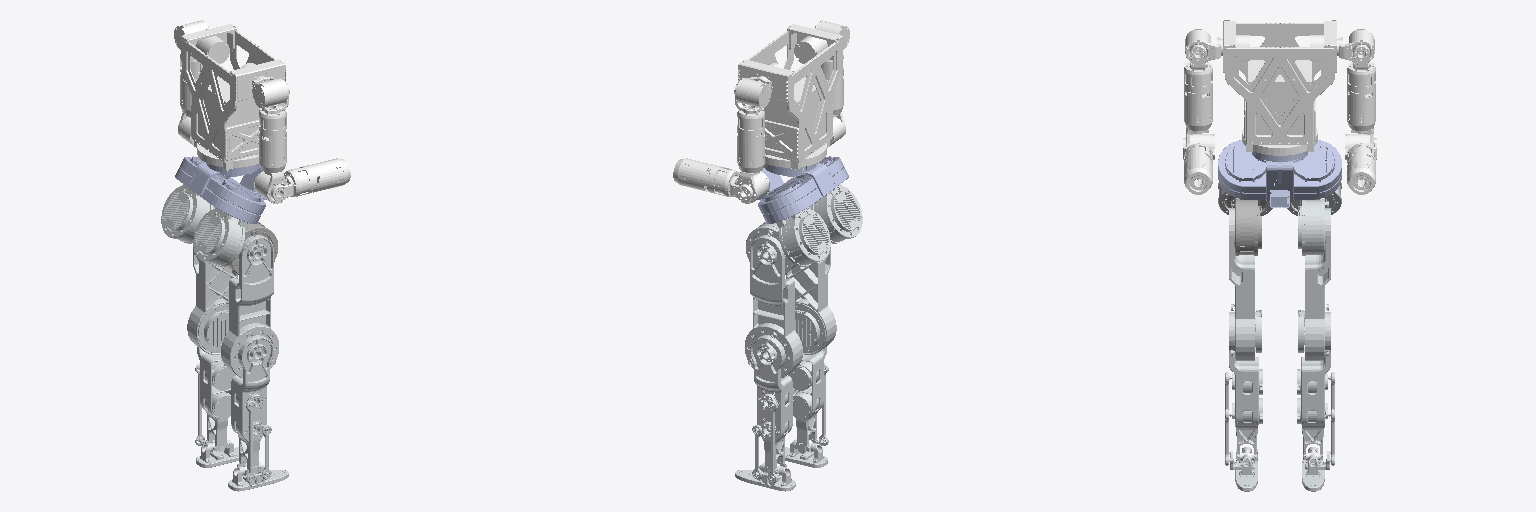
--- Facts derived from the render (not from the file) ---
3 views of the same robot in one strip: view 1: azimuth 30°, elevation 25°; view 2: azimuth 150°, elevation 25°; view 3: azimuth 270°, elevation 25° (orthographic).
Model atom01urdf with 24 links and 23 joints (23 revolute), rooted at base_link, posed every joint at zero.
Links seen in each view (by area): view 1: torso_link, right_thigh_pitch_link, right_knee_link, base_link, left_thigh_pitch_link, left_knee_link, right_thigh_yaw_link, right_arm_yaw_link, left_thigh_yaw_link, right_elbow_yaw_link, right_arm_pitch_link, left_arm_yaw_link (+3 smaller); view 2: torso_link, left_thigh_pitch_link, left_knee_link, base_link, right_thigh_pitch_link, right_knee_link, left_thigh_yaw_link, left_arm_yaw_link, right_thigh_yaw_link, left_elbow_yaw_link, left_arm_pitch_link, right_arm_yaw_link (+3 smaller); view 3: torso_link, base_link, right_knee_link, left_knee_link, left_thigh_pitch_link, right_thigh_pitch_link, left_arm_yaw_link, right_arm_yaw_link, left_thigh_roll_link, right_thigh_roll_link, left_elbow_yaw_link, right_elbow_yaw_link (+4 smaller).
Link boxes in pixels (x1=…): torso_link: x1=181, y1=24, x2=285, y2=169; right_thigh_pitch_link: x1=221, y1=235, x2=278, y2=377; right_knee_link: x1=231, y1=335, x2=273, y2=482; base_link: x1=175, y1=156, x2=266, y2=223; left_thigh_pitch_link: x1=187, y1=247, x2=237, y2=354; left_knee_link: x1=195, y1=347, x2=235, y2=450; right_thigh_yaw_link: x1=193, y1=207, x2=247, y2=266; right_arm_yaw_link: x1=254, y1=108, x2=287, y2=203; left_thigh_yaw_link: x1=161, y1=184, x2=212, y2=243; right_elbow_yaw_link: x1=284, y1=158, x2=350, y2=196; right_arm_pitch_link: x1=252, y1=76, x2=288, y2=107; left_arm_yaw_link: x1=178, y1=54, x2=202, y2=145; torso_link: x1=738, y1=24, x2=842, y2=169; left_thigh_pitch_link: x1=745, y1=235, x2=802, y2=377; left_knee_link: x1=750, y1=335, x2=792, y2=482; base_link: x1=757, y1=156, x2=848, y2=223; right_thigh_pitch_link: x1=786, y1=247, x2=836, y2=354; right_knee_link: x1=788, y1=347, x2=828, y2=453; left_thigh_yaw_link: x1=776, y1=207, x2=830, y2=266; left_arm_yaw_link: x1=736, y1=108, x2=769, y2=203; right_thigh_yaw_link: x1=811, y1=184, x2=862, y2=243; left_elbow_yaw_link: x1=673, y1=158, x2=739, y2=196; left_arm_pitch_link: x1=735, y1=76, x2=771, y2=107; right_arm_yaw_link: x1=821, y1=55, x2=845, y2=145; torso_link: x1=1223, y1=20, x2=1336, y2=155; base_link: x1=1218, y1=140, x2=1341, y2=207; right_knee_link: x1=1225, y1=312, x2=1262, y2=465; left_knee_link: x1=1297, y1=312, x2=1334, y2=465; left_thigh_pitch_link: x1=1298, y1=208, x2=1330, y2=360; right_thigh_pitch_link: x1=1229, y1=208, x2=1261, y2=360; left_arm_yaw_link: x1=1345, y1=62, x2=1375, y2=159; right_arm_yaw_link: x1=1184, y1=62, x2=1214, y2=159; left_thigh_roll_link: x1=1294, y1=195, x2=1332, y2=255; right_thigh_roll_link: x1=1227, y1=195, x2=1265, y2=255; left_elbow_yaw_link: x1=1347, y1=143, x2=1375, y2=194; right_elbow_yaw_link: x1=1184, y1=143, x2=1212, y2=194.
Bounding box of the posed robot: 0.3188 × 0.4235 × 1.06 m (x, y, z).
Meshes: 24 distinct files referenced, 24 mesh visuals loaded (24 binary STL).

robot.urdf — atom01urdf:
<?xml version="1.0" encoding="utf-8"?>
<robot
  name="atom01urdf">
  <link
    name="base_link">
    <inertial>
      <origin
        xyz="-0.077749 -0.00027844 0.03283"
        rpy="0 0 0" />
      <mass
        value="5.18128957" />
      <inertia
        ixx="0.03443949"
        ixy="-0.00009982"
        ixz="0.01422409"
        iyy="0.05207392"
        iyz="0.00006596"
        izz="0.05655402" />
    </inertial>
    <visual>
      <origin
        xyz="0 0 0"
        rpy="0 0 0" />
      <geometry>
        <mesh
          filename="../meshes/base_link.STL" />
      </geometry>
      <material
        name="">
        <color
          rgba="0.79216 0.81961 0.93333 1" />
      </material>
    </visual>
    <collision>
      <origin
        xyz="-0.05 0 0.05"
        rpy="0 0 0" />
      <geometry>
        <box name="baselink" size="0.16 0.16 0.12"/>
      </geometry>
    </collision>
  </link>
  <link
    name="left_thigh_yaw_link">
    <inertial>
      <origin
        xyz="-0.0316748666497344 -8.77228606818127E-05 -0.0526260620141965"
        rpy="0 0 0" />
      <mass
        value="1.65548536" />
      <inertia
        ixx="0.00708216"
        ixy="-0.00000742"
        ixz="-0.00374417"
        iyy="0.00881274"
        iyz="-0.00001272"
        izz="0.00319900" />
    </inertial>
    <visual>
      <origin
        xyz="0 0 0"
        rpy="0 0 0" />
      <geometry>
        <mesh
          filename="../meshes/left_thigh_yaw_link.STL" />
      </geometry>
      <material
        name="">
        <color
          rgba="0.898039215686275 0.917647058823529 0.929411764705882 1" />
      </material>
    </visual>
    <!-- <collision>
      <origin
        xyz="0 0 0"
        rpy="0 0 0" />
      <geometry>
        <mesh
          filename="../meshes/left_thigh_yaw_link.STL" />
      </geometry>
    </collision> -->
  </link>
  <joint
    name="left_thigh_yaw_joint"
    type="revolute">
    <origin
      xyz="-0.10111 0.072188 -0.0014904"
      rpy="0 0 0" />
    <parent
      link="base_link" />
    <child
      link="left_thigh_yaw_link" />
    <axis
      xyz="-0.5 0 -0.86603" />    
    <limit
      lower="-1"
      upper="0.2"
      effort="80"
      velocity="10.47" />
  </joint>
  <link
    name="left_thigh_roll_link">
    <inertial>
      <origin
        xyz="0.0479499049261024 -0.000836880055032348 -0.0274491021327244"
        rpy="0 0 0" />
      <mass
        value="1.66242030" />
      <inertia
        ixx="0.00258627"
        ixy="0.00014599"
        ixz="0.00287042"
        iyy="0.00812419"
        iyz="-0.00008702"
        izz="0.00593575" />
    </inertial>
    <visual>
      <origin
        xyz="0 0 0"
        rpy="0 0 0" />
      <geometry>
        <mesh
          filename="../meshes/left_thigh_roll_link.STL" />
      </geometry>
      <material
        name="">
        <color
          rgba="0.898039215686275 0.917647058823529 0.929411764705882 1" />
      </material>
    </visual>
    <!-- <collision>
      <origin
        xyz="0 0 0"
        rpy="0 0 0" />
      <geometry>
        <mesh
          filename="../meshes/left_thigh_roll_link.STL" />
      </geometry>
    </collision> -->
  </link>
  <joint
    name="left_thigh_roll_joint"
    type="revolute">
    <origin
      xyz="-0.014479 0 -0.074779"
      rpy="0 0 0" />
    <parent
      link="left_thigh_yaw_link" />
    <child
      link="left_thigh_roll_link" />
    <axis
      xyz="0.86603 0 -0.5" />
    <limit
      lower="-0.2"
      upper="2"
      effort="80"
      velocity="10.47" />
  </joint>
  <link
    name="left_thigh_pitch_link">
    <inertial>
      <origin
        xyz="0.000110018242793011 -0.0158590957763449 -0.164929951636754"
        rpy="0 0 0" />
      <mass
        value="2.40451173" />
      <inertia
        ixx="0.11318926"
        ixy="0.00000454"
        ixz="-0.00007916"
        iyy="0.11318768"
        iyz="-0.01129654"
        izz="0.00284795" />
    </inertial>
    <visual>
      <origin
        xyz="0 0 0"
        rpy="0 0 0" />
      <geometry>
        <mesh
          filename="../meshes/left_thigh_pitch_link.STL" />
      </geometry>
      <material
        name="">
        <color
          rgba="0.898039215686275 0.917647058823529 0.929411764705882 1" />
      </material>
    </visual>
    <collision>
      <origin
        xyz="0.0 0 -0.08"
        rpy="0 0 0" />
      <geometry>
        <box name="left_thigh_pitch_link" size="0.08 0.1 0.22"/>
      </geometry>
    </collision>
  </link>
  <joint
    name="left_thigh_pitch_joint"
    type="revolute">
    <origin
      xyz="0.057159 0.02485 -0.032997"
      rpy="0 0 0" />
    <parent
      link="left_thigh_roll_link" />
    <child
      link="left_thigh_pitch_link" />
    <axis
      xyz="0 1 0" />
    <limit
      lower="-2.5"
      upper="0.8"
      effort="80"
      velocity="10.47" />
  </joint>
  <link
    name="left_knee_link">
    <inertial>
      <origin
        xyz="-7.43790684068768E-05 -0.0152236420584554 -0.131157724786166"
        rpy="0 0 0" />
      <mass
        value=" 1.57203189" />
      <inertia
        ixx="0.03983976"
        ixy="0.00000133"
        ixz="-0.00000406"
        iyy="0.03909295"
        iyz="-0.00525180"
        izz="0.00152117" />
    </inertial>
    <visual>
      <origin
        xyz="0 0 0"
        rpy="0 0 0" />
      <geometry>
        <mesh
          filename="../meshes/left_knee_link.STL" />
      </geometry>
      <material
        name="">
        <color
          rgba="0.898039215686275 0.917647058823529 0.929411764705882 1" />
      </material>
    </visual>
    <collision>
      <origin
        xyz="0.0 0 -0.15"
        rpy="0 0 0" />
      <geometry>
        <box name="left_knee_link" size="0.08 0.08 0.22"/>
      </geometry>
    </collision>
  </link>
  <joint
    name="left_knee_joint"
    type="revolute">
    <origin
      xyz="0 3.0016E-05 -0.25"
      rpy="0 0 0" />
    <parent
      link="left_thigh_pitch_link" />
    <child
      link="left_knee_link" />
    <axis
      xyz="0 1 0" />
    <limit
      lower="0"
      upper="2.5"
      effort="80"
      velocity="10.47" />
  </joint>
  <link
    name="left_ankle_pitch_link">
    <inertial>
      <origin
        xyz="-1.59966508372911E-08 -1.59944334617837E-08 -1.92057481029906E-12"
        rpy="0 0 0" />
      <mass
        value="0.08430000" />
      <inertia
        ixx="0.00000866"
        ixy="0.00000000"
        ixz="0.00000000"
        iyy="0.00000866"
        iyz="0.00000000"
        izz="0.00001453" />
    </inertial>
    <visual>
      <origin
        xyz="0 0 0"
        rpy="0 0 0" />
      <geometry>
        <mesh
          filename="../meshes/left_ankle_pitch_link.STL" />
      </geometry>
      <material
        name="">
        <color
          rgba="1 1 1 1" />
      </material>
    </visual>
    <!-- <collision>
      <origin
        xyz="0 0 0"
        rpy="0 0 0" />
      <geometry>
        <mesh
          filename="../meshes/left_ankle_pitch_link.STL" />
      </geometry>
    </collision> -->
  </link>
  <joint
    name="left_ankle_pitch_joint"
    type="revolute">
    <origin
      xyz="0 -0.024814 -0.3"
      rpy="0 0 0" />
    <parent
      link="left_knee_link" />
    <child
      link="left_ankle_pitch_link" />
    <axis
      xyz="0 1 0" />
    <limit
      lower="-0.6"
      upper="0.6"
      effort="18"
      velocity="3.7692" />
  </joint>
  <link
    name="left_ankle_roll_link">
    <inertial>
      <origin
        xyz="0.0128338410984807 0.00356888095683068 -0.0247187184132931"
        rpy="0 0 0" />
      <mass
        value="0.25150733" />
      <inertia
        ixx="0.00029037"
        ixy="0.00000000"
        ixz="0.00012475"
        iyy="0.00066331"
        iyz="0.00000932"
        izz="0.00052367" />
    </inertial>
    <visual>
      <origin
        xyz="0 0 0"
        rpy="0 0 0" />
      <geometry>
        <mesh
          filename="../meshes/left_ankle_roll_link.STL" />
      </geometry>
      <material
        name="">
        <color
          rgba="0.898039215686275 0.917647058823529 0.929411764705882 1" />
      </material>
    </visual>
    <collision>
      <origin
        xyz="0 0 0"
        rpy="0 0 0" />
      <geometry>
        <mesh
          filename="../meshes/left_ankle_roll_link.STL" />
      </geometry>
    </collision>
  </link>
  <joint
    name="left_ankle_roll_joint"
    type="revolute">
    <origin
      xyz="0 0 0"
      rpy="0 0 0" />
    <parent
      link="left_ankle_pitch_link" />
    <child
      link="left_ankle_roll_link" />
    <axis
      xyz="1 0 0" />
    <limit
      lower="-0.5"
      upper="0.5"
      effort="18"
      velocity="3.7692" />
  </joint>
   <link
    name="right_thigh_yaw_link">
    <inertial>
      <origin
        xyz="-0.028675 -8.7723E-05 -0.04743"
        rpy="0 0 0" />
      <mass
        value="1.65548536" />
      <inertia
        ixx="0.00613853"
        ixy="-0.00000683"
        ixz="-0.00318352"
        iyy="0.00753626"
        iyz="-0.00001170"
        izz="0.00286615" />
    </inertial>
    <visual>
      <origin
        xyz="0 0 0"
        rpy="0 0 0" />
      <geometry>
        <mesh
          filename="../meshes/right_thigh_yaw_link.STL" />
      </geometry>
      <material
        name="">
        <color
          rgba="0.89804 0.91765 0.92941 1" />
      </material>
    </visual>
    <!-- <collision>
      <origin
        xyz="0 0 0"
        rpy="0 0 0" />
      <geometry>
        <mesh
          filename="../meshes/right_thigh_yaw_link.STL" />
      </geometry>
    </collision> -->
  </link>
  <joint
    name="right_thigh_yaw_joint"
    type="revolute">
    <origin
      xyz="-0.10411 -0.072812 -0.0066865"
      rpy="0 0 0" />
    <parent
      link="base_link" />
    <child
      link="right_thigh_yaw_link" />
    <axis
      xyz="-0.5 0 -0.86603" />
    <limit
      lower="-0.2"
      upper="1"
      effort="80"
      velocity="10.47" />
  </joint>
  <link
    name="right_thigh_roll_link">
    <inertial>
      <origin
        xyz="0.0477693837411464 0.000836963027846305 -0.0274166758684142"
        rpy="0 0 0" />
      <mass
        value=" 1.66242030" />
      <inertia
        ixx="0.00258034"
        ixy="-0.00014577"
        ixz="0.00285196"
        iyy="0.00807516"
        iyz="0.00008710"
        izz="0.00589265" />
    </inertial>
    <visual>
      <origin
        xyz="0 0 0"
        rpy="0 0 0" />
      <geometry>
        <mesh
          filename="../meshes/right_thigh_roll_link.STL" />
      </geometry>
      <material
        name="">
        <color
          rgba="0.752941176470588 0.752941176470588 0.752941176470588 1" />
      </material>
    </visual>
    <!-- <collision>
      <origin
        xyz="0.05 0 -0.1"
        rpy="0 0 0" />
      <geometry>
        <box name="baselink" size="0.08 0.1 0.22"/>
      </geometry>
    </collision> -->
  </link>
  <joint
    name="right_thigh_roll_joint"
    type="revolute">
    <origin
      xyz="-0.011479 0 -0.069583"
      rpy="0 0 0" />
    <parent
      link="right_thigh_yaw_link" />
    <child
      link="right_thigh_roll_link" />
    <axis
      xyz="0.86603 0 -0.5" />
    <limit
      lower="-2"
      upper="0.2"
      effort="80"
      velocity="10.47" />
  </joint>
  <link
    name="right_thigh_pitch_link">
    <inertial>
      <origin
        xyz="1.72079145086892E-05 0.0158997269549062 -0.164935707262188"
        rpy="0 0 0" />
      <mass
        value="2.40451173" />
      <inertia
        ixx="0.11318926"
        ixy="0.00000531"
        ixz="-0.00001822"
        iyy="0.11318225"
        iyz="0.01132303"
        izz="0.00285338" />
    </inertial>
    <visual>
      <origin
        xyz="0 0 0"
        rpy="0 0 0" />
      <geometry>
        <mesh
          filename="../meshes/right_thigh_pitch_link.STL" />
      </geometry>
      <material
        name="">
        <color
          rgba="0.898039215686275 0.917647058823529 0.929411764705882 1" />
      </material>
    </visual>
    <collision>
      <origin
        xyz="0.0 0 -0.08"
        rpy="0 0 0" />
      <geometry>
        <box name="left_thigh_pitch_link" size="0.08 0.1 0.22"/>
      </geometry>
    </collision>
    
  </link>
  <joint
    name="right_thigh_pitch_joint"
    type="revolute">
    <origin
      xyz="0.057156 -0.02485 -0.033003"
      rpy="0 0 0" />
    <parent
      link="right_thigh_roll_link" />
    <child
      link="right_thigh_pitch_link" />
    <axis
      xyz="0 1 0" />
    <limit
      lower="-2.5"
      upper="0.8"
      effort="80"
      velocity="10.47" />
  </joint>
  <link
    name="right_knee_link">
    <inertial>
      <origin
        xyz="-7.00545068475222E-05 0.0151869457728163 -0.130863053353739"
        rpy="0 0 0" />
      <mass
        value="1.57203189" />
      <inertia
        ixx="0.03881145"
        ixy="-0.00000144"
        ixz="-0.00000329"
        iyy="0.03807343"
        iyz="0.00517669"
        izz="0.00151115" />
    </inertial>
    <visual>
      <origin
        xyz="0 0 0"
        rpy="0 0 0" />
      <geometry>
        <mesh
          filename="../meshes/right_knee_link.STL" />
      </geometry>
      <material
        name="">
        <color
          rgba="0.898039215686275 0.917647058823529 0.929411764705882 1" />
      </material>
    </visual>
    <!-- <collision>
      <origin
        xyz="0 0 0"
        rpy="1.57 0 0" />
      <geometry>
        <cylinder name="left_knee_link" length="0.1" radius="0.045"/>
      </geometry>
    </collision> -->
    <collision>
      <origin
        xyz="0.0 0 -0.15"
        rpy="0 0 0" />
      <geometry>
        <box name="left_knee_link" size="0.08 0.08 0.22"/>
      </geometry>
    </collision>
  </link>
  <joint
    name="right_knee_joint"
    type="revolute">
    <origin
      xyz="0 3.0016E-05 -0.25"
      rpy="0 0 0" />
    <parent
      link="right_thigh_pitch_link" />
    <child
      link="right_knee_link" />
    <axis
      xyz="0 1 0" />
    <limit
      lower="0"
      upper="2.5"
      effort="80"
      velocity="10.47" />
  </joint>
  <link
    name="right_ankle_pitch_link">
    <inertial>
      <origin
        xyz="-1.59966505597353E-08 -1.59944334721107E-08 -1.9204637879966E-12"
        rpy="0 0 0" />
      <mass
        value="0.08430000" />
      <inertia
        ixx="0.00000866"
        ixy="0.00000000"
        ixz="0.00000000"
        iyy="0.00000866"
        iyz="0.00000000"
        izz="0.00001453" />
    </inertial>
    <visual>
      <origin
        xyz="0 0 0"
        rpy="0 0 0" />
      <geometry>
        <mesh
          filename="../meshes/right_ankle_pitch_link.STL" />
      </geometry>
      <material
        name="">
        <color
          rgba="1 1 1 1" />
      </material>
    </visual>
    <!-- <collision>
      <origin
        xyz="0 0 0"
        rpy="0 0 0" />
      <geometry>
        <mesh
          filename="../meshes/right_ankle_pitch_link.STL" />
      </geometry>
    </collision> -->
  </link>
  <joint
    name="right_ankle_pitch_joint"
    type="revolute">
    <origin
      xyz="0 0.024886 -0.3"
      rpy="0 0 0" />
    <parent
      link="right_knee_link" />
    <child
      link="right_ankle_pitch_link" />
    <axis
      xyz="0 1 0" />
    <limit
      lower="-0.6"
      upper="0.6"
      effort="18"
      velocity="3.7692" />
  </joint>
  <link
    name="right_ankle_roll_link">
    <inertial>
      <origin
        xyz="0.0128333434205583 -0.00356507681987825 -0.0247195774991914"
        rpy="0 0 0" />
      <mass
        value="0.25150733" />
      <inertia
        ixx="0.00029037"
        ixy="0.00000000"
        ixz="0.00012475"
        iyy="0.00066331"
        iyz="-0.00000929"
        izz="0.00052366" />
    </inertial>
    <visual>
      <origin
        xyz="0 0 0"
        rpy="0 0 0" />
      <geometry>
        <mesh
          filename="../meshes/right_ankle_roll_link.STL" />
      </geometry>
      <material
        name="">
        <color
          rgba="0.898039215686275 0.917647058823529 0.929411764705882 1" />
      </material>
    </visual>
    <collision>
      <origin
        xyz="0 0 0"
        rpy="0 0 0" />
      <geometry>
        <mesh
          filename="../meshes/right_ankle_roll_link.STL" />
      </geometry>
    </collision>
  </link>
  <joint
    name="right_ankle_roll_joint"
    type="revolute">
    <origin
      xyz="0 0 0"
      rpy="0 0 0" />
    <parent
      link="right_ankle_pitch_link" />
    <child
      link="right_ankle_roll_link" />
    <axis
      xyz="1 0 0" />
    <limit
      lower="-0.5"
      upper="0.5"
      effort="18"
      velocity="3.7692" />
  </joint>
  <link
    name="torso_link">
    <inertial>
      <origin
        xyz="0 0 0"
        rpy="0 0 0" />
      <mass
        value="6.57129050" />
      <inertia
        ixx="0.12321295"
        ixy="0"
        ixz="0"
        iyy="0.10920519"
        iyz="0"
        izz="0.03327151" />
    </inertial>
    <visual>
      <origin
        xyz="0 0 0"
        rpy="0 0 0" />
      <geometry>
        <mesh
          filename="../meshes/torso_link.STL" />
      </geometry>
      <material
        name="">
        <color
          rgba="1 1 1 1" />
      </material>
    </visual>
    <collision>
      <origin
        xyz="0 0 0.15"
        rpy="0 0 0" />
      <geometry>
        <box name="torso_link" size="0.16 0.16 0.22"/>
      </geometry>
    </collision>
  </link>
  <joint
    name="torso_joint"
    type="revolute">
    <origin
      xyz="-0.058434 -0.00031196 0.11805"
      rpy="0 0 0" />
    <parent
      link="base_link" />
    <child
      link="torso_link" />
    <axis
      xyz="0 0 1" />
    <limit
      lower="-2.62"
      upper="2.62"
      effort="80"
      velocity="10.47" />
  </joint>
  <link
    name="left_arm_pitch_link">
    <inertial>
      <origin
        xyz="-0.0034715 0.050362 -1.261E-08"
        rpy="0 0 0" />
      <mass
        value="0.46177377" />
      <inertia
        ixx="0.00145615"
        ixy="0.00010283"
        ixz="0.00000000"
        iyy="0.00022003"
        iyz="0.00000003"
        izz="0.00149487" />
    </inertial>
    <visual>
      <origin
        xyz="0 0 0"
        rpy="0 0 0" />
      <geometry>
        <mesh
          filename="../meshes/left_arm_pitch_link.STL" />
      </geometry>
      <material
        name="">
        <color
          rgba="1 1 1 1" />
      </material>
    </visual>
    <collision>
      <origin
        xyz="0 0.055 0"
        rpy="0 1.57 0" />
      <geometry>
         <cylinder radius="0.03" length="0.05"/>
      </geometry>
    </collision>
  </link>
  <joint
    name="left_arm_pitch_joint"
    type="revolute">
    <origin
      xyz="0 0.12175 0.20518"
      rpy="0 0 0" />
    <parent
      link="torso_link" />
    <child
      link="left_arm_pitch_link" />
    <axis
      xyz="0 1 0" />
    <limit
      lower="-2.0"
      upper="2.0"
      effort="18"
      velocity="3.7692" />
  </joint>
  <link
    name="left_arm_roll_link">
    <inertial>
      <origin
        xyz="-0.00377275144524553 -1.68442581592598E-06 -0.0240366947493711"
        rpy="0 0 0" />
      <mass
        value="0.07920766" />
      <inertia
        ixx="0.00008764"
        ixy="0.00000000"
        ixz="-0.00002344"
        iyy="0.00009947"
        iyz="0.00000000"
        izz="0.00002769" />
    </inertial>
    <visual>
      <origin
        xyz="0 0 0"
        rpy="0 0 0" />
      <geometry>
        <mesh
          filename="../meshes/left_arm_roll_link.STL" />
      </geometry>
      <material
        name="">
        <color
          rgba="1 1 1 1" />
      </material>
    </visual>
    <collision>
      <origin
        xyz="-0.02 0 -0.12"
        rpy="0 0 0" />
      <geometry>
         <cylinder radius="0.03" length="0.10"/>
      </geometry>
    </collision>
  </link>
  <joint
    name="left_arm_roll_joint"
    type="revolute">
    <origin
      xyz="0.02 0.056 0"
      rpy="0 0 0" />
    <parent
      link="left_arm_pitch_link" />
    <child
      link="left_arm_roll_link" />
    <axis
      xyz="1 0 0" />
    <limit
      lower="-0.25"
      upper="2.25"
      effort="18"
      velocity="3.7692" />
  </joint>
  <link
    name="left_arm_yaw_link">
    <inertial>
      <origin
        xyz="-1.26153304766466E-05 -0.00132141996853528 -0.104695445710032"
        rpy="0 0 0" />
      <mass
        value="1.16138345" />
      <inertia
        ixx="0.01930071"
        ixy="0.00000039"
        ixz="-0.00000086"
        iyy="0.01925979"
        iyz="-0.00031793"
        izz="0.00061767" />
    </inertial>
    <visual>
      <origin
        xyz="0 0 0"
        rpy="0 0 0" />
      <geometry>
        <mesh
          filename="../meshes/left_arm_yaw_link.STL" />
      </geometry>
      <material
        name="">
        <color
          rgba="1 1 1 1" />
      </material>
    </visual>
    <collision>
      <origin
        xyz="0 0 -0.19"
        rpy="0 1.57 1.57" />
      <geometry>
        <cylinder radius="0.03" length="0.05"/>
      </geometry>
    </collision>
  </link>
  <joint
    name="left_arm_yaw_joint"
    type="revolute">
    <origin
      xyz="-0.02 0 -0.05"
      rpy="0 0 0" />
    <parent
      link="left_arm_roll_link" />
    <child
      link="left_arm_yaw_link" />
    <axis
      xyz="0 0 -1" />
    <limit
      lower="-2.6"
      upper="2.6"
      effort="18"
      velocity="3.7692" />
  </joint>
  <link
    name="left_elbow_pitch_link">
    <inertial>
      <origin
        xyz="0.0240366955432442 -0.00377275215397437 1.68363679362016E-06"
        rpy="0 0 0" />
      <mass
        value="0.07920766" />
      <inertia
        ixx="0.00002769"
        ixy="0.00002344"
        ixz="0.00000000"
        iyy="0.00008764"
        iyz="0.00000000"
        izz="0.00009947" />
    </inertial>
    <visual>
      <origin
        xyz="0 0 0"
        rpy="0 0 0" />
      <geometry>
        <mesh
          filename="../meshes/left_elbow_pitch_link.STL" />
      </geometry>
      <material
        name="">
        <color
          rgba="1 1 1 1" />
      </material>
    </visual>
    <collision>
      <origin
        xyz="0.10 -0.02 0"
        rpy="0 1.57 0" />
      <geometry>
          <cylinder radius="0.03" length="0.10"/>
      </geometry>
    </collision>
  </link>
  <joint
    name="left_elbow_pitch_joint"
    type="revolute">
    <origin
      xyz="0 0.02 -0.18875"
      rpy="0 0 0" />
    <parent
      link="left_arm_yaw_link" />
    <child
      link="left_elbow_pitch_link" />
    <axis
      xyz="0 1 0" />
    <limit
      lower="-1.0"
      upper="1.57"
      effort="18"
      velocity="3.7692" />
  </joint>
  <link
    name="left_elbow_yaw_link">
    <inertial>
      <origin
        xyz="0.053392963833437 -2.02753648059911E-05 -8.53951545808085E-05"
        rpy="0 0 0" />
      <mass
        value="0.69960968" />
      <inertia
        ixx="0.00039764"
        ixy="0.00000000"
        ixz="0.00000000"
        iyy="0.00347587"
        iyz="-0.00000000"
        izz="0.00347366" />
    </inertial>
    <visual>
      <origin
        xyz="0 0 0"
        rpy="0 0 0" />
      <geometry>
        <mesh
          filename="../meshes/left_elbow_yaw_link.STL" />
      </geometry>
      <material
        name="">
        <color
          rgba="1 1 1 1" />
      </material>
    </visual>
    <!-- <collision>
      <origin
        xyz="0 0 0"
        rpy="0 0 0" />
      <geometry>
        <mesh
          filename="../meshes/left_elbow_yaw_link.STL" />
      </geometry>
    </collision> -->
  </link>
  <joint
    name="left_elbow_yaw_joint"
    type="revolute">
    <origin
      xyz="0.05 -0.02 0"
      rpy="0 0 0" />
    <parent
      link="left_elbow_pitch_link" />
    <child
      link="left_elbow_yaw_link" />
    <axis
      xyz="1 0 0" />
    <limit
      lower="-1.57"
      upper="1.57"
      effort="18"
      velocity="3.7692" />
  </joint>
  <link
    name="right_arm_pitch_link">
    <inertial>
      <origin
        xyz="-0.0034715 -0.050362 1.0482E-08"
        rpy="0 0 0" />
      <mass
        value="0.46177377" />
      <inertia
        ixx=" 0.00145615"
        ixy="-0.00010283"
        ixz="0.00000000"
        iyy="0.00022003"
        iyz="0.00000003"
        izz="0.00149487" />
    </inertial>
    <visual>
      <origin
        xyz="0 0 0"
        rpy="0 0 0" />
      <geometry>
        <mesh
          filename="../meshes/right_arm_pitch_link.STL" />
      </geometry>
      <material
        name="">
        <color
          rgba="1 1 1 1" />
      </material>
    </visual>
    <collision>
      <origin
        xyz="0 -0.055 0"
        rpy="0 1.57 0" />
      <geometry>
         <cylinder radius="0.03" length="0.05"/>
      </geometry>
    </collision>
  </link>
  <joint
    name="right_arm_pitch_joint"
    type="revolute">
    <origin
      xyz="0 -0.12175 0.20518"
      rpy="0 0 0" />
    <parent
      link="torso_link" />
    <child
      link="right_arm_pitch_link" />
    <axis
      xyz="0 1 0" />
    <limit
      lower="-2"
      upper="2"
      effort="18"
      velocity="3.7692" />
  </joint>
  <link
    name="right_arm_roll_link">
    <inertial>
      <origin
        xyz="-0.0037728 -1.6844E-06 -0.024037"
        rpy="0 0 0" />
      <mass
        value="0.07920766" />
      <inertia
        ixx=" 0.00008764"
        ixy="0.00000000"
        ixz="-0.00002344"
        iyy="0.00009947"
        iyz="0.00000000"
        izz="0.00002769" />
    </inertial>
    <visual>
      <origin
        xyz="0 0 0"
        rpy="0 0 0" />
      <geometry>
        <mesh
          filename="../meshes/right_arm_roll_link.STL" />
      </geometry>
      <material
        name="">
        <color
          rgba="1 1 1 1" />
      </material>
    </visual>
    <collision>
      <origin
        xyz="-0.02 0 -0.12"
        rpy="0 0 0" />
      <geometry>
         <cylinder radius="0.03" length="0.10"/>
      </geometry>
    </collision>
  </link>
  <joint
    name="right_arm_roll_joint"
    type="revolute">
    <origin
      xyz="0.02 -0.056 0"
      rpy="0 0 0" />
    <parent
      link="right_arm_pitch_link" />
    <child
      link="right_arm_roll_link" />
    <axis
      xyz="1 0 0" />
    <limit
      lower="-2.25"
      upper="0.25"
      effort="18"
      velocity="3.7692" />
  </joint>
  <link
    name="right_arm_yaw_link">
    <inertial>
      <origin
        xyz="-1.2623E-05 0.0014245 -0.1047"
        rpy="0 0 0" />
      <mass
        value="1.16138345" />
      <inertia
        ixx="0.01930071"
        ixy="0.00000039"
        ixz="-0.00000092"
        iyy="0.01925979"
        iyz="0.00032391"
        izz="0.00061767" />
    </inertial>
    <visual>
      <origin
        xyz="0 0 0"
        rpy="0 0 0" />
      <geometry>
        <mesh
          filename="../meshes/right_arm_yaw_link.STL" />
      </geometry>
      <material
        name="">
        <color
          rgba="1 1 1 1" />
      </material>
    </visual>
    <collision>
      <origin
        xyz="0 0 -0.19"
        rpy="0 1.57 1.57" />
      <geometry>
        <cylinder radius="0.03" length="0.05"/>
      </geometry>
    </collision>
  </link>
  <joint
    name="right_arm_yaw_joint"
    type="revolute">
    <origin
      xyz="-0.02 0 -0.05"
      rpy="0 0 0" />
    <parent
      link="right_arm_roll_link" />
    <child
      link="right_arm_yaw_link" />
    <axis
      xyz="0 0 -1" />
    <limit
      lower="-2.6"
      upper="2.6"
      effort="18"
      velocity="3.7692" />
  </joint>
  <link
    name="right_elbow_pitch_link">
    <inertial>
      <origin
        xyz="0.024037 0.0037728 -1.6837E-06"
        rpy="0 0 0" />
      <mass
        value="0.07920766" />
      <inertia
        ixx=" 0.00002769"
        ixy="-0.00002344"
        ixz=" 0.00000000"
        iyy="0.00008764"
        iyz="0.00000000"
        izz="0.00009947" />
    </inertial>
    <visual>
      <origin
        xyz="0 0 0"
        rpy="0 0 0" />
      <geometry>
        <mesh
          filename="../meshes/right_elbow_pitch_link.STL" />
      </geometry>
      <material
        name="">
        <color
          rgba="1 1 1 1" />
      </material>
    </visual>
    <collision>
      <origin
        xyz="0.10 0.02 0"
        rpy="0 1.57 0" />
      <geometry>
          <cylinder radius="0.03" length="0.10"/>
      </geometry>
    </collision>
  </link>
  <joint
    name="right_elbow_pitch_joint"
    type="revolute">
    <origin
      xyz="0 -0.02 -0.18875"
      rpy="0 0 0" />
    <parent
      link="right_arm_yaw_link" />
    <child
      link="right_elbow_pitch_link" />
    <axis
      xyz="0 1 0" />
    <limit
      lower="-1.0"
      upper="1.57"
      effort="18"
      velocity="3.7692" />
  </joint>
  <link
    name="right_elbow_yaw_link">
    <inertial>
      <origin
        xyz="0.053393 1.5282E-06 8.7756E-05"
        rpy="0 0 0" />
      <mass
        value="0.69960968" />
      <inertia
        ixx="0.00039764"
        ixy="-0.00000000"
        ixz="-0.00000000"
        iyy="0.00347593"
        iyz="0.00000000"
        izz="0.00347361" />
    </inertial>
    <visual>
      <origin
        xyz="0 0 0"
        rpy="0 0 0" />
      <geometry>
        <mesh
          filename="../meshes/right_elbow_yaw_link.STL" />
      </geometry>
      <material
        name="">
        <color
          rgba="1 1 1 1" />
      </material>
    </visual>
    <!-- <collision>
      <origin
        xyz="0 0 0"
        rpy="0 0 0" />
      <geometry>
        <mesh
          filename="../meshes/right_elbow_yaw_link.STL" />
      </geometry>
    </collision> -->
  </link>
  <joint
    name="right_elbow_yaw_joint"
    type="revolute">
    <origin
      xyz="0.05 0.02 0"
      rpy="0 0 0" />
    <parent
      link="right_elbow_pitch_link" />
    <child
      link="right_elbow_yaw_link" />
    <axis
      xyz="1 0 0" />
    <limit
      lower="-1.57"
      upper="1.57"
      effort="18"
      velocity="3.7692" />
  </joint>
</robot>
